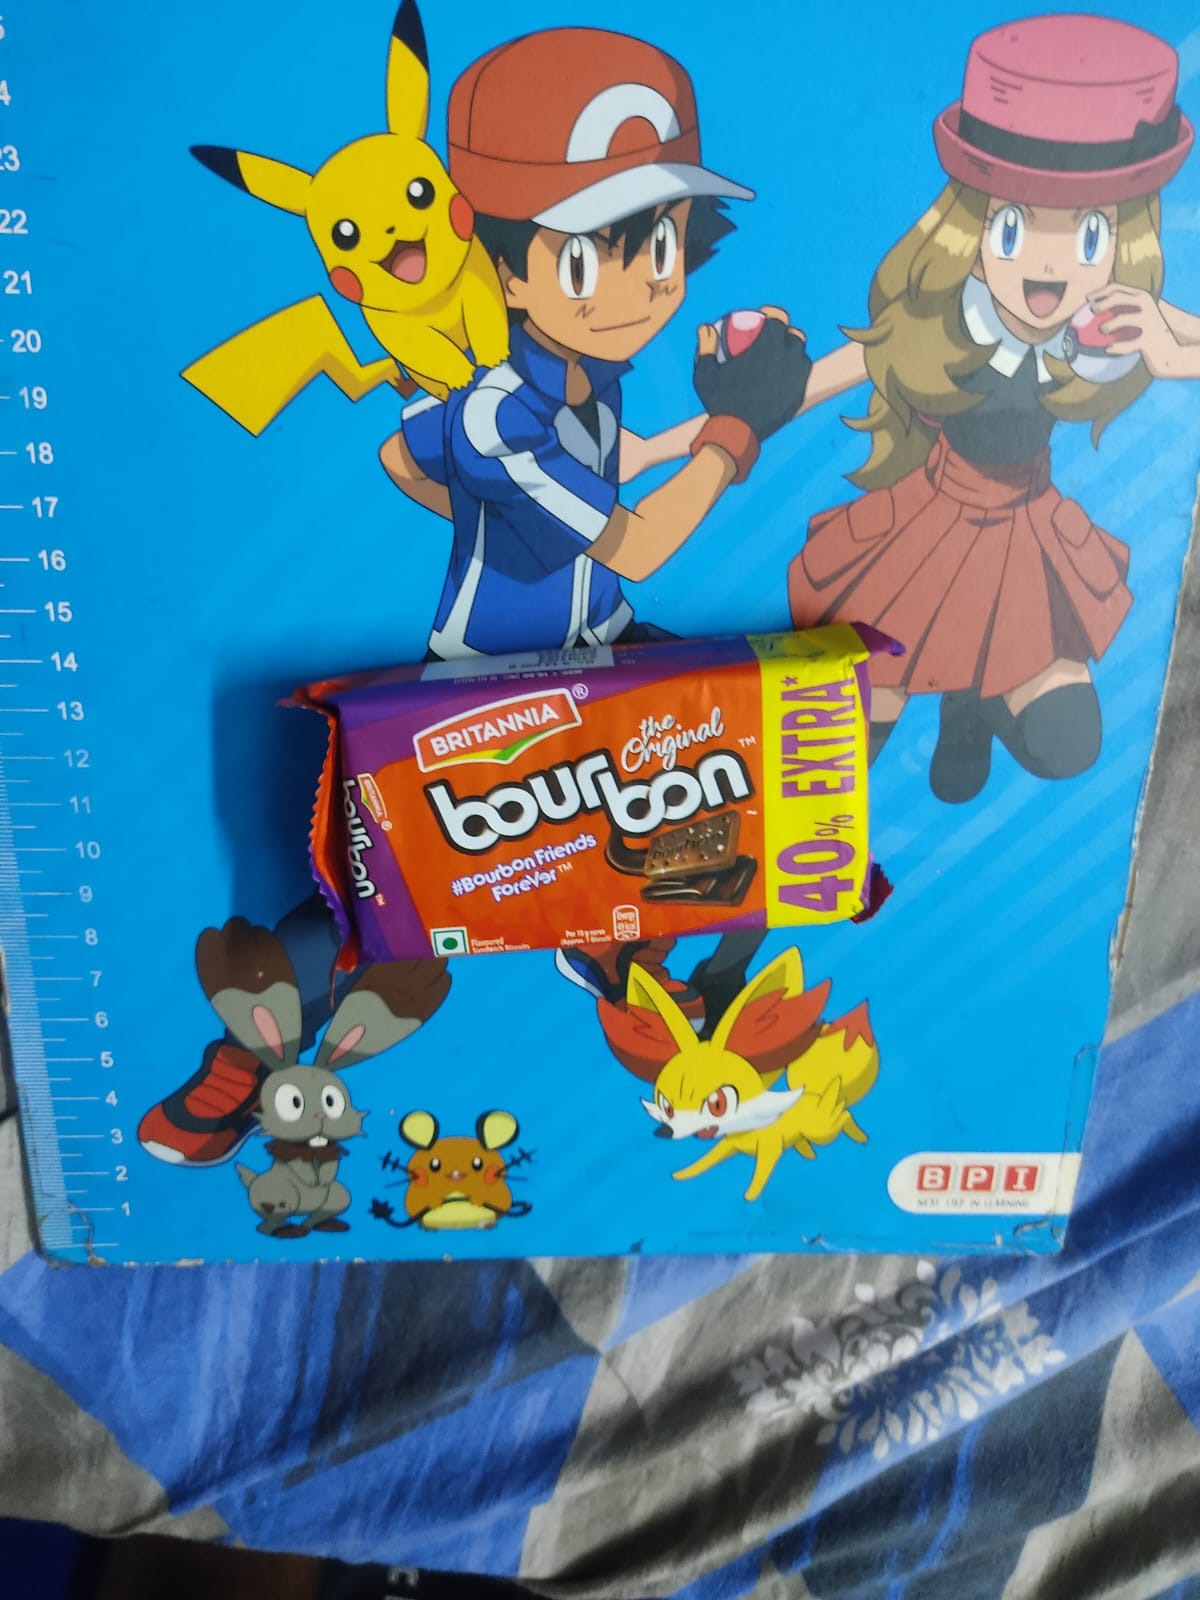010_Bourbon: (294, 622, 897, 973)
